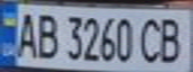0: (115, 14, 139, 63)
2: (78, 12, 100, 62)
3: (60, 11, 84, 61)
6: (100, 14, 121, 63)
A: (12, 8, 39, 60)
B: (154, 13, 187, 64), (33, 9, 60, 61)
C: (136, 13, 166, 64)
